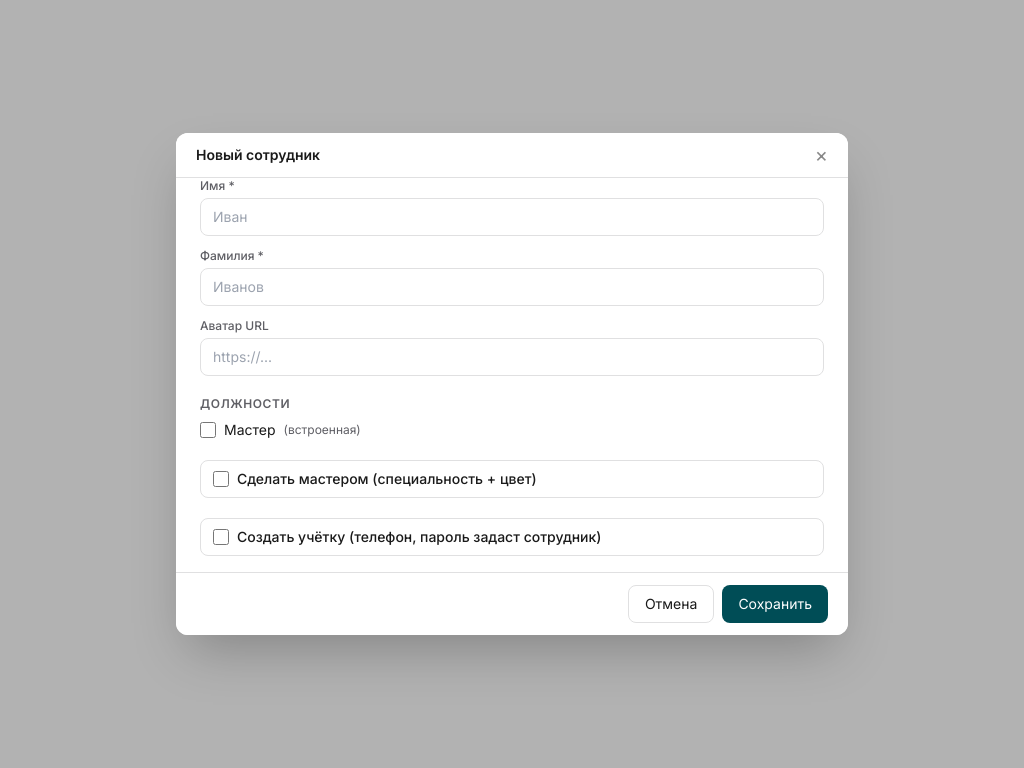
Test: create: passwordless account block (S1) › the checkbox label no longer mentions a password
Click the checkbox with test id "create-user-checkbox" at point(221, 537), box [213,529,229,545]
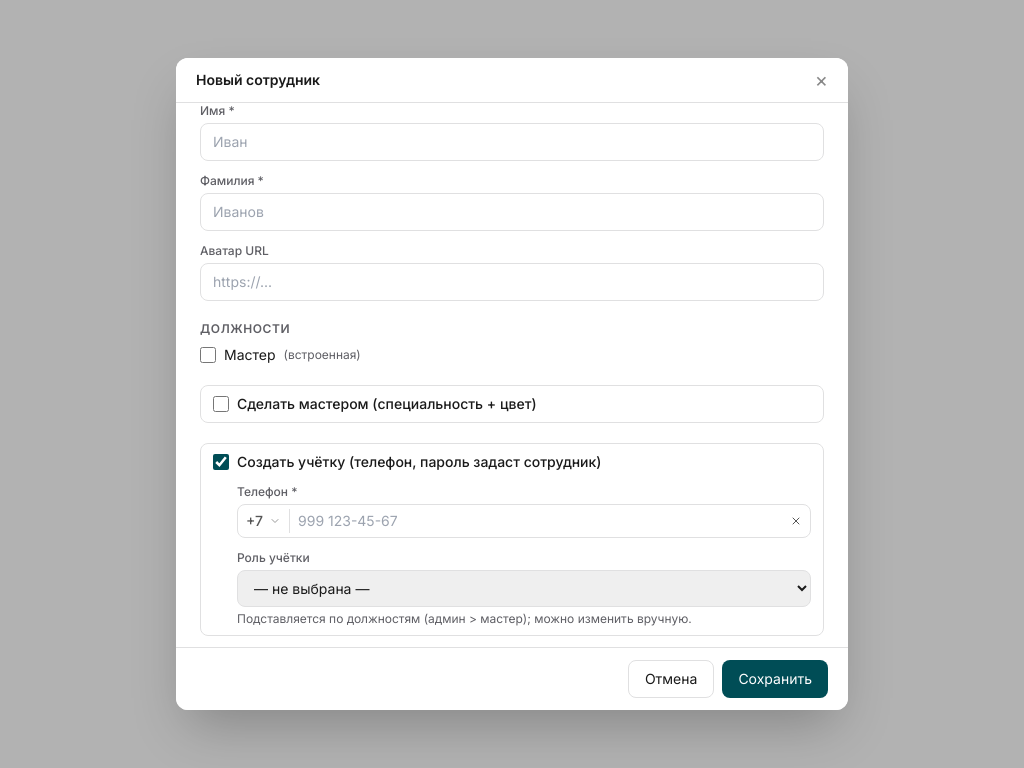
Expected: the text with test id "create-user-checkbox-label" shows "Создать учётку", [237,453,602,470]
Now the element with test id "create-user-checkbox-label" no longer shows "Пароль"
